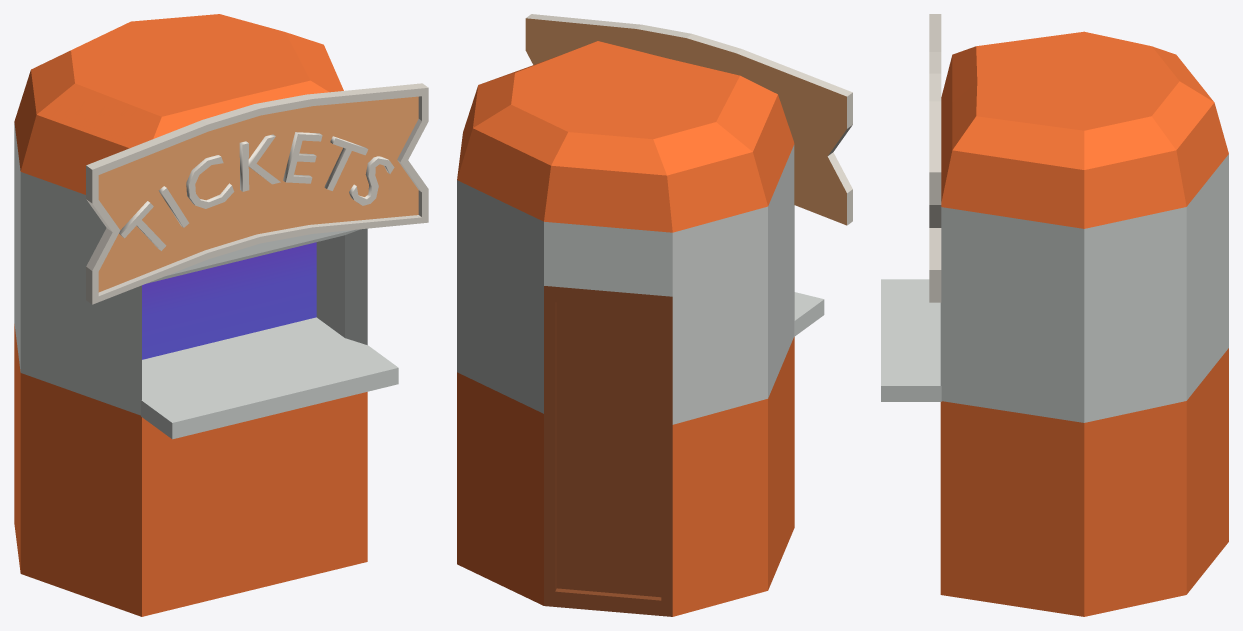
File: Ticket_Box_A.fbx
3 renders of one model, left to right at view 1: azimuth 30°, elevation 25°; view 2: azimuth 150°, elevation 25°; view 3: azimuth 270°, elevation 25°, orthographic. The views are drawn at different scales.
Visible parts, largest first — view 1: Ticket_Box_A; view 2: Ticket_Box_A; view 3: Ticket_Box_A.
Boxes of the visible parts, x1,y1,x2,y2 form: Ticket_Box_A: (14, 14, 428, 616); Ticket_Box_A: (457, 14, 852, 616); Ticket_Box_A: (881, 14, 1228, 616).
Size of the model in its own units: 148 by 203 by 137.
